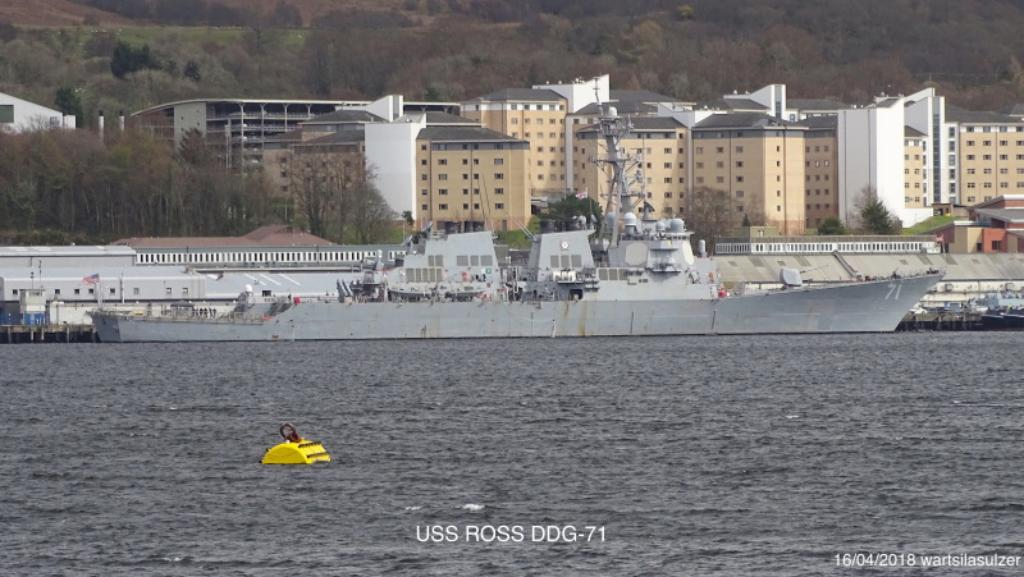Warship: (82, 69, 946, 346)
